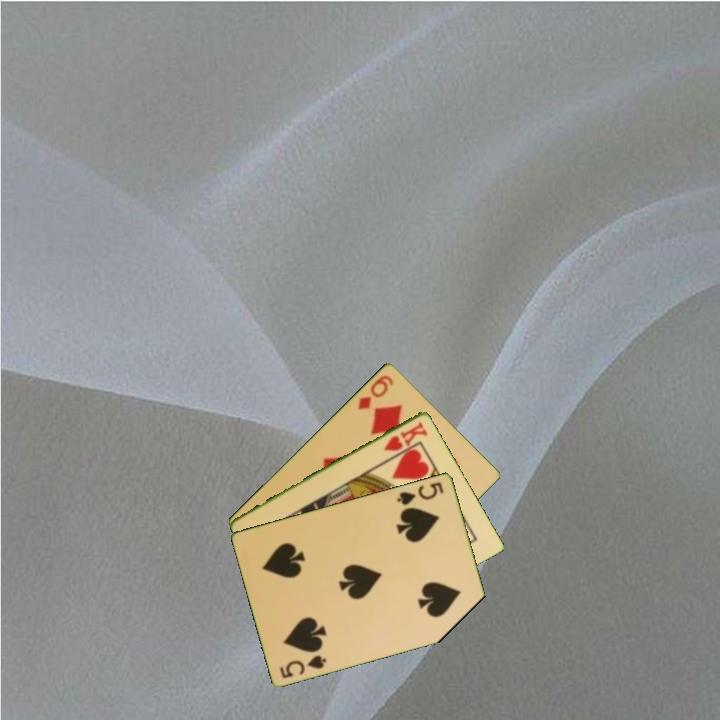5s: (393, 478, 446, 508), (276, 651, 329, 681)
6d: (354, 371, 396, 412)
Kh: (380, 418, 431, 454)
